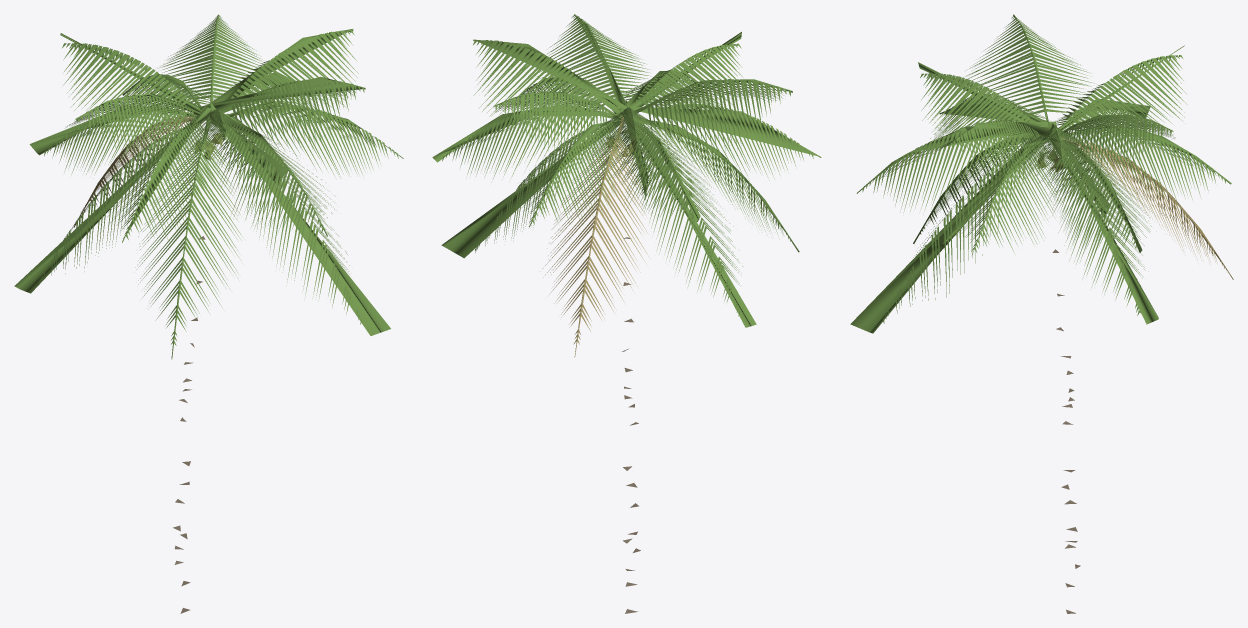
Rendered from city_palm_2_far.glb.
The picture shows the model from 3 angles, left to right: view 1: azimuth 30°, elevation 25°; view 2: azimuth 150°, elevation 25°; view 3: azimuth 270°, elevation 25°; orthographic projection. The views are drawn at different scales.
Visible parts, largest first — view 1: Frond0; view 2: Frond0; view 3: Frond0.
Part boxes in pixels (left/top/right/bottom): Frond0: left=14, top=14, right=403, bottom=613; Frond0: left=432, top=14, right=821, bottom=613; Frond0: left=850, top=14, right=1233, bottom=613.
Bounding box in the file's own units: 8.01 × 13.28 × 8.57.
